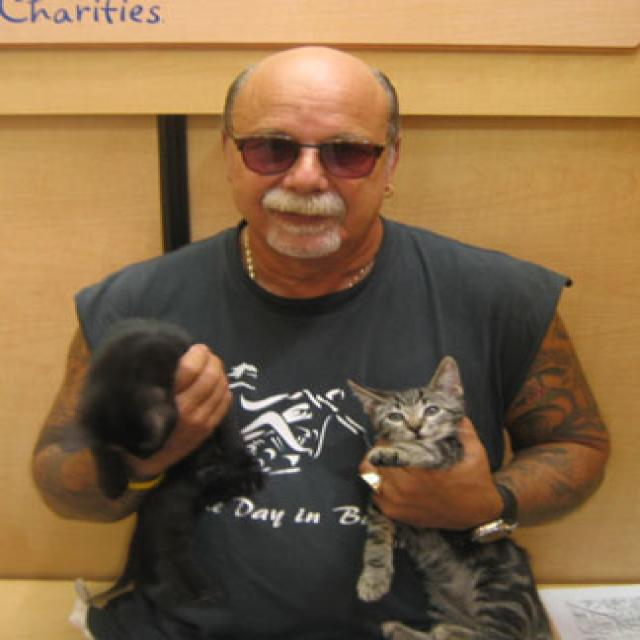Cats: (344, 354, 563, 638)
